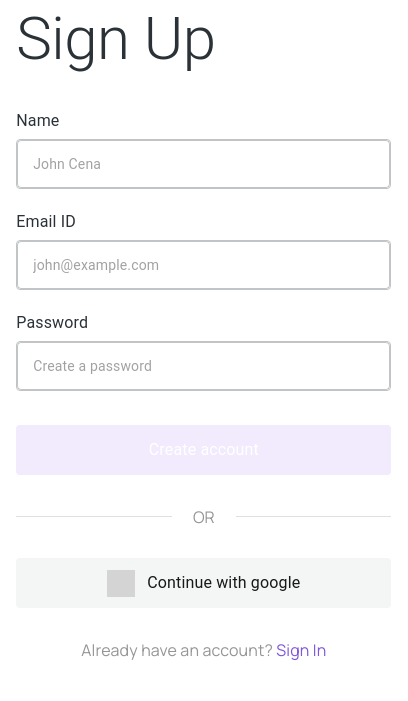
Signup component testcases › Entering name field incorrectly
The width and height of the screenshot is (408, 701).
Type "s" into the field with placeholder "John Cena" at x=204, y=164, box [17,140,390,188]
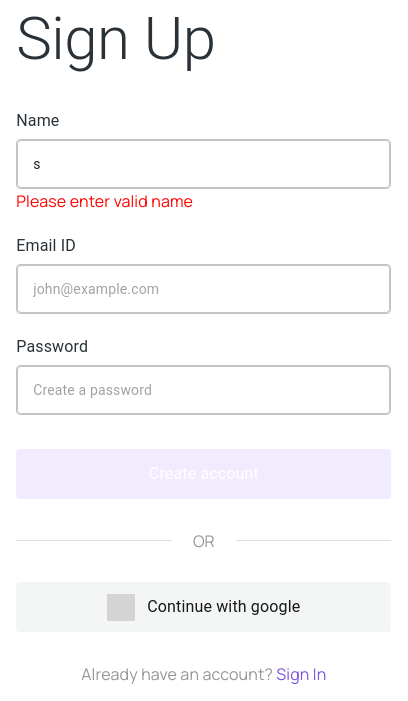
Check: the text "Please enter valid name" is shown, box [16,190,193,212]
